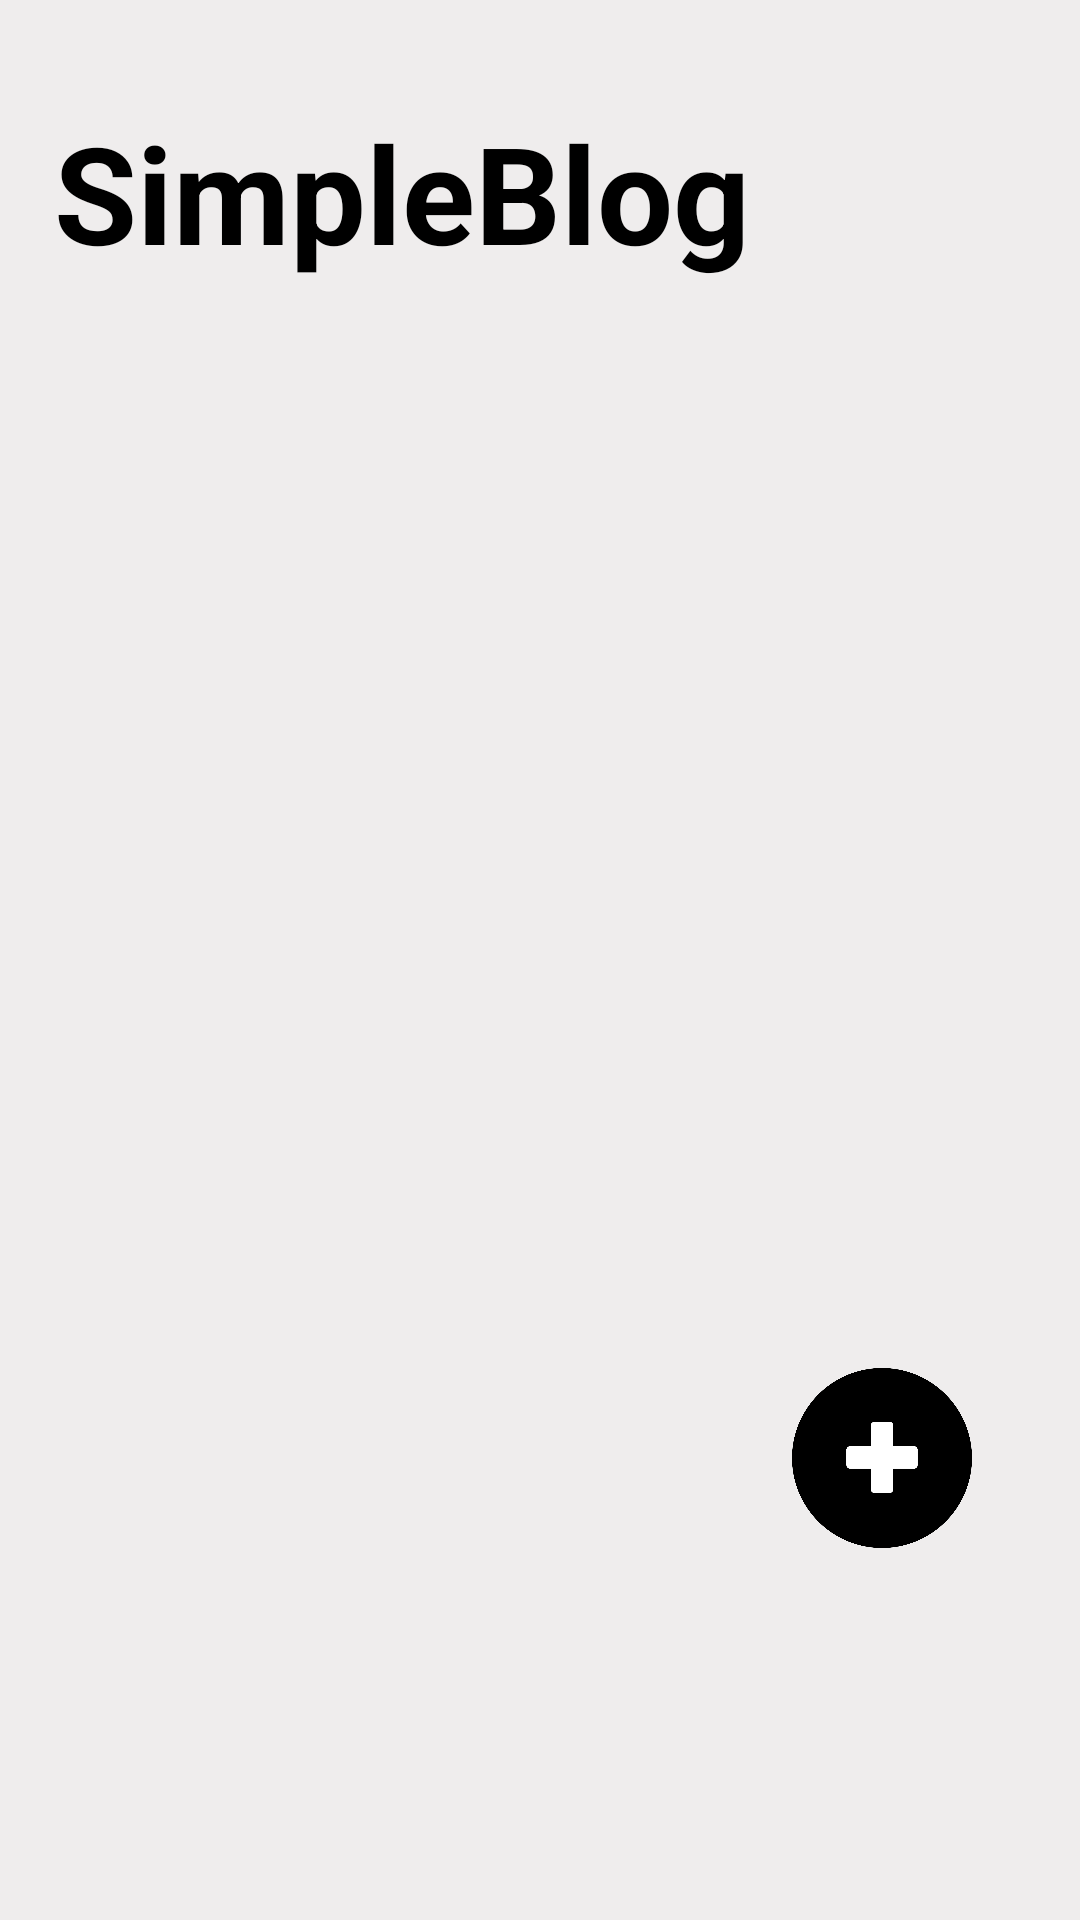

Screen size 1080px x 1920px. Icon name, then its box in pixels as box(x1, y1, x2, y2):
add: box(792, 1368, 972, 1548)
